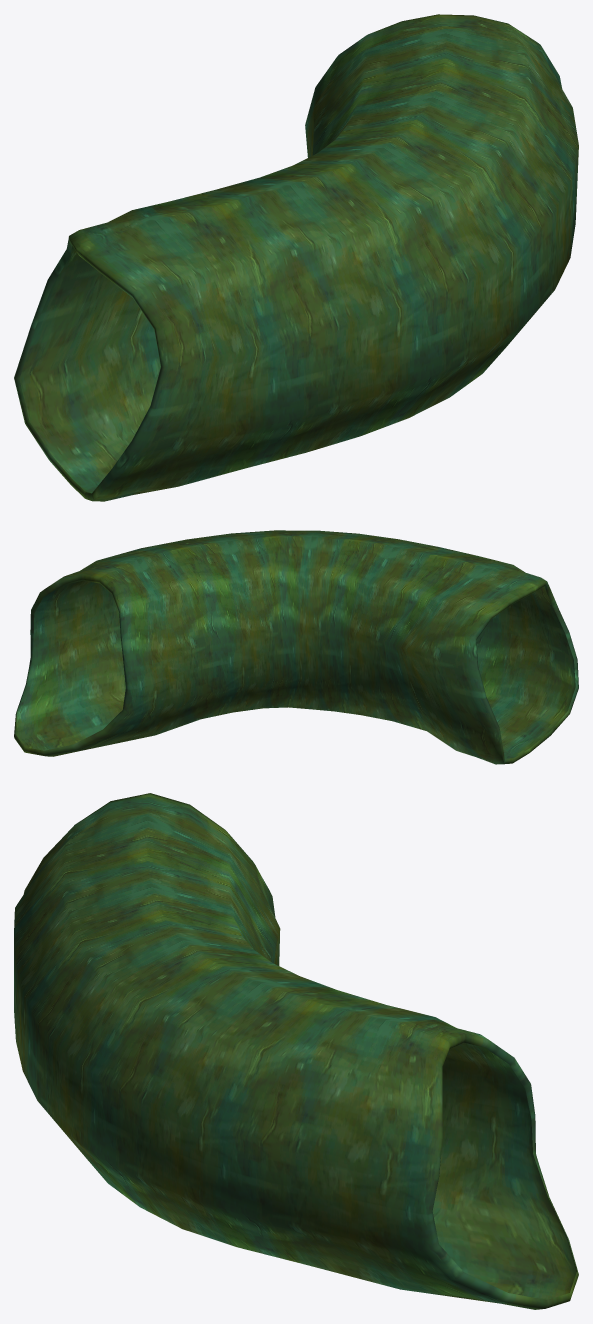
File: MIRKWOOD_MIRK_PLAYSURFACE81.fbx
The picture shows the model from 3 angles, top to bottom: view 1: azimuth 30°, elevation 25°; view 2: azimuth 150°, elevation 25°; view 3: azimuth 270°, elevation 25°; orthographic projection. The views are drawn at different scales.
Visible parts, largest first — view 1: MIRKWOOD_MIRK_PLAYSURFACE81; view 2: MIRKWOOD_MIRK_PLAYSURFACE81; view 3: MIRKWOOD_MIRK_PLAYSURFACE81.
Boxes of the visible parts, x1,y1,x2,y2 form: MIRKWOOD_MIRK_PLAYSURFACE81: [14, 14, 578, 501]; MIRKWOOD_MIRK_PLAYSURFACE81: [14, 530, 578, 764]; MIRKWOOD_MIRK_PLAYSURFACE81: [14, 793, 578, 1309].
Bounding box in the file's own units: 122821 × 48980 × 93694.
Materials: 1 (1 with a texture image).
